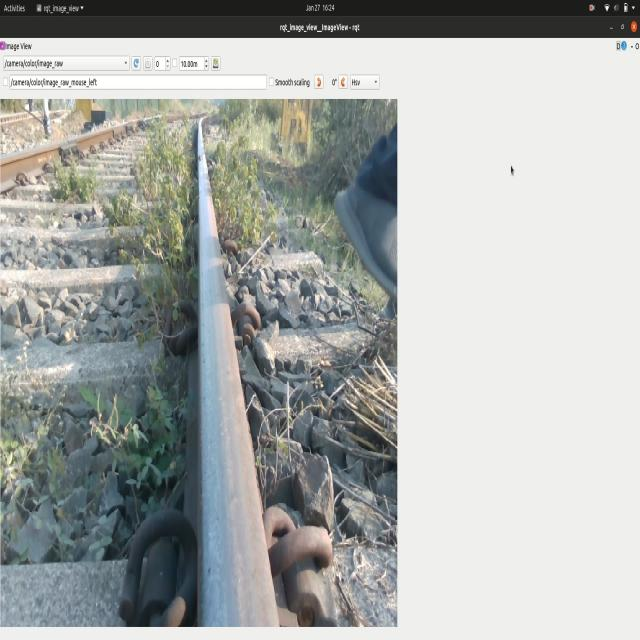correct: (260, 481, 378, 638)
overrailed: (231, 295, 278, 360)
